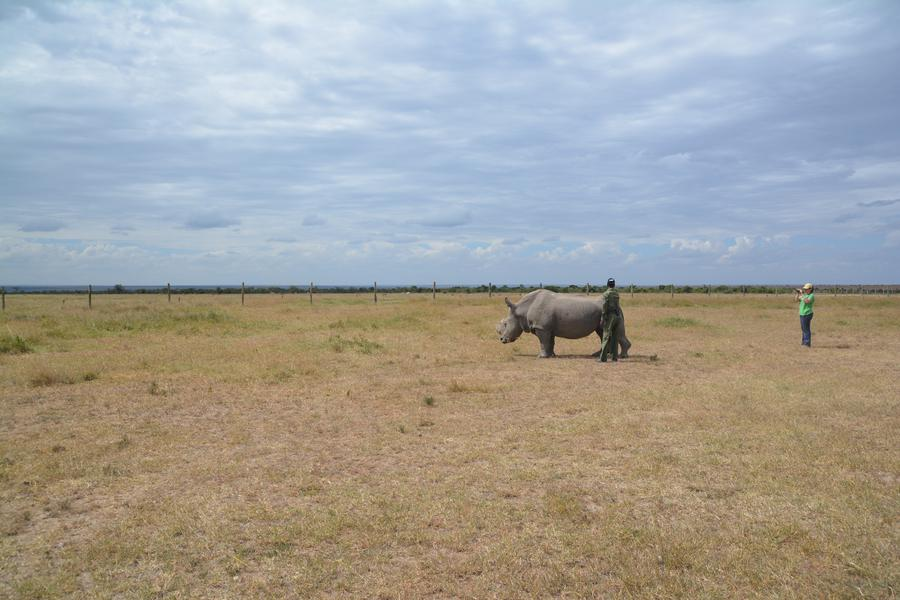rhino: (486, 293, 637, 351)
